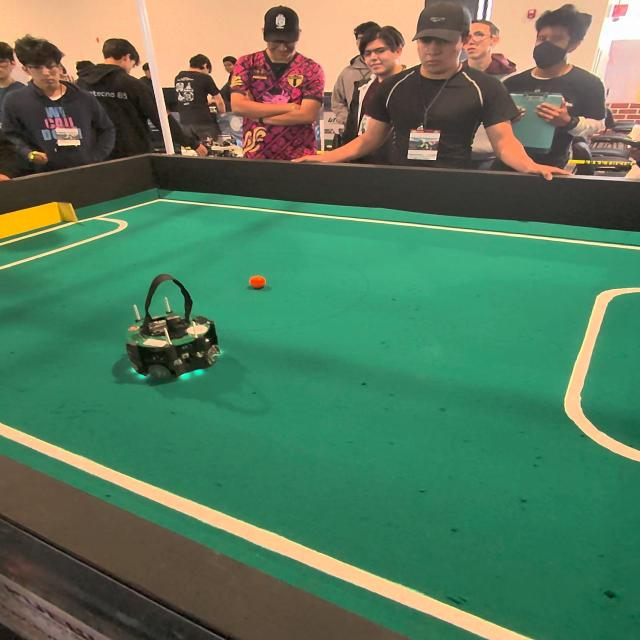Robot: (125, 271, 233, 397)
pelota: (249, 278, 271, 294)
